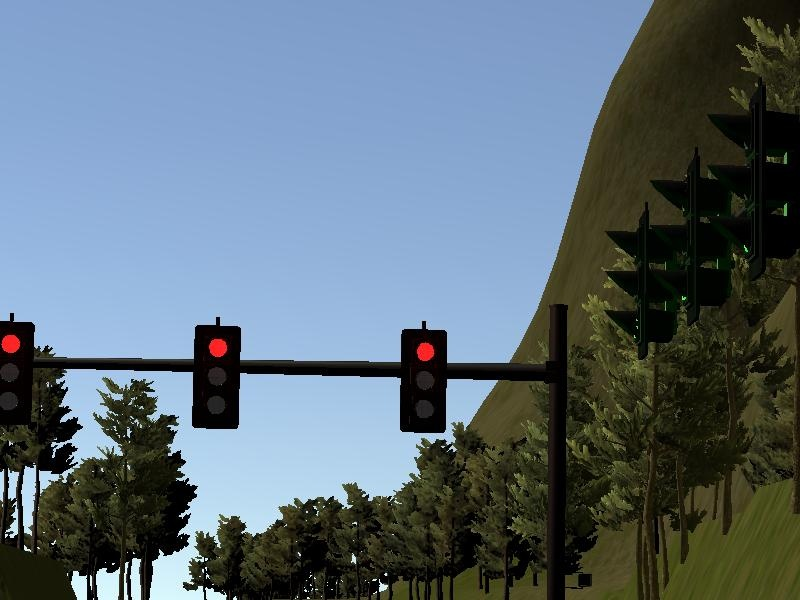red: (394, 321, 452, 437), (190, 319, 242, 433), (1, 316, 43, 424)
